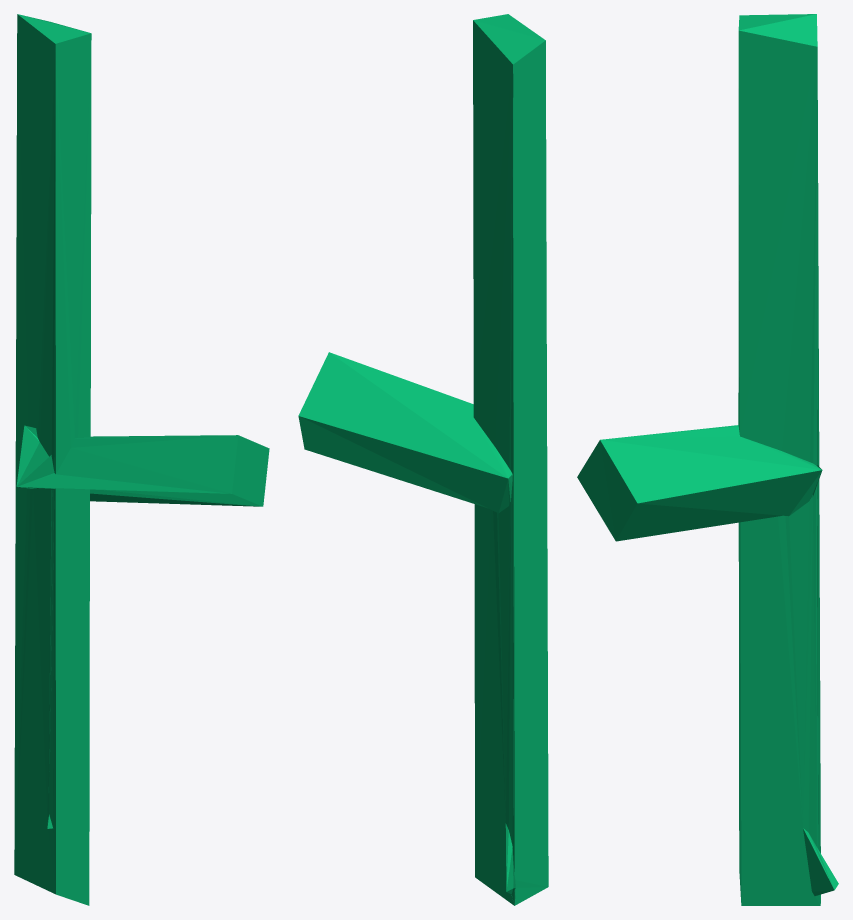
3 views of the same model, side by side, from view 1: azimuth 30°, elevation 25°; view 2: azimuth 210°, elevation 25°; view 3: azimuth 270°, elevation 25° (orthographic). The views are drawn at different scales.
Parts seen in each view (by area): view 1: 451_Cube.1828; view 2: 451_Cube.1828; view 3: 451_Cube.1828.
Part boxes in pixels (x1=…): 451_Cube.1828: x1=14, y1=14, x2=269, y2=905; 451_Cube.1828: x1=298, y1=14, x2=548, y2=905; 451_Cube.1828: x1=577, y1=14, x2=838, y2=905.
Size of the model in its own units: 2.79 by 12.28 by 3.33.
